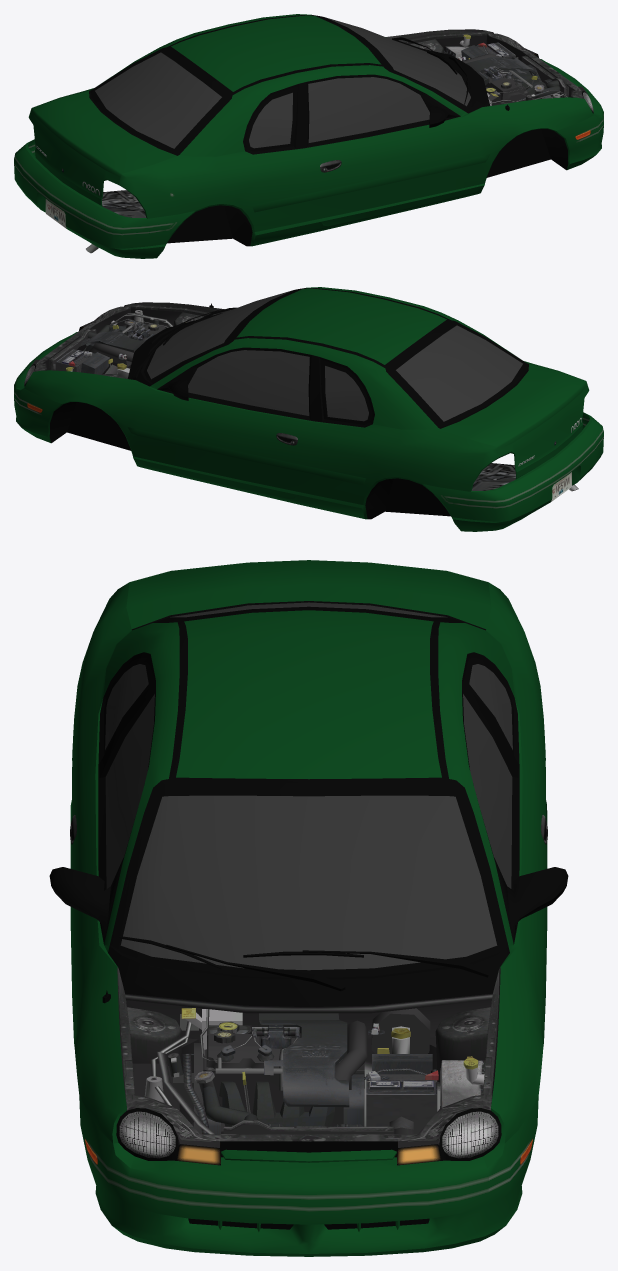
File: body.fbx
3 views of the same model, one above another, from view 1: azimuth 30°, elevation 25°; view 2: azimuth 150°, elevation 25°; view 3: azimuth 270°, elevation 25° (orthographic). The views are drawn at different scales.
Parts seen in each view (by area): view 1: KIT00_BODY_A, BASE_A, KIT00_ROOF_A, KIT00_TRUNK_A, KIT00_REAR_BUMPER_A, KIT00_ENGINE_A, KIT00_SKIRT_A, KIT00_FRONT_BUMPER_A, KIT00_RIGHT_SIDE_MIRROR_A; view 2: KIT00_BODY_A, BASE_A, KIT00_ROOF_A, KIT00_TRUNK_A, KIT00_REAR_BUMPER_A, KIT00_ENGINE_A, KIT00_SKIRT_A, KIT00_FRONT_BUMPER_A, KIT00_LEFT_SIDE_MIRROR_A; view 3: BASE_A, KIT00_ROOF_A, KIT00_BODY_A, KIT00_ENGINE_A, KIT00_FRONT_BUMPER_A, KIT00_TRUNK_A, KIT00_HEADLIGHT_A, KIT00_LEFT_SIDE_MIRROR_A, KIT00_RIGHT_SIDE_MIRROR_A.
Boxes of the visible parts, box(x1,y1,x2,y2) form: KIT00_BODY_A: box(28, 37, 593, 246); BASE_A: box(36, 15, 473, 195); KIT00_ROOF_A: box(89, 14, 465, 156); KIT00_TRUNK_A: box(29, 91, 176, 206); KIT00_REAR_BUMPER_A: box(14, 139, 195, 258); KIT00_ENGINE_A: box(386, 29, 588, 105); KIT00_SKIRT_A: box(102, 183, 484, 246); KIT00_FRONT_BUMPER_A: box(547, 62, 603, 169); KIT00_RIGHT_SIDE_MIRROR_A: box(420, 94, 460, 127); KIT00_BODY_A: box(24, 303, 589, 519); BASE_A: box(132, 288, 581, 466); KIT00_ROOF_A: box(152, 287, 528, 429); KIT00_TRUNK_A: box(441, 364, 588, 479); KIT00_REAR_BUMPER_A: box(422, 412, 603, 531); KIT00_ENGINE_A: box(29, 302, 230, 378); KIT00_SKIRT_A: box(133, 456, 515, 519); KIT00_FRONT_BUMPER_A: box(14, 335, 70, 442); KIT00_LEFT_SIDE_MIRROR_A: box(157, 367, 197, 400); BASE_A: box(70, 602, 547, 991); KIT00_ROOF_A: box(99, 601, 518, 945); KIT00_BODY_A: box(70, 582, 547, 1162); KIT00_ENGINE_A: box(117, 967, 500, 1147); KIT00_FRONT_BUMPER_A: box(79, 1096, 538, 1256); KIT00_TRUNK_A: box(126, 560, 491, 628); KIT00_HEADLIGHT_A: box(119, 1111, 498, 1165); KIT00_LEFT_SIDE_MIRROR_A: box(494, 857, 568, 944); KIT00_RIGHT_SIDE_MIRROR_A: box(49, 857, 123, 944).
Size of the model in its own units: 435 by 122 by 185.
